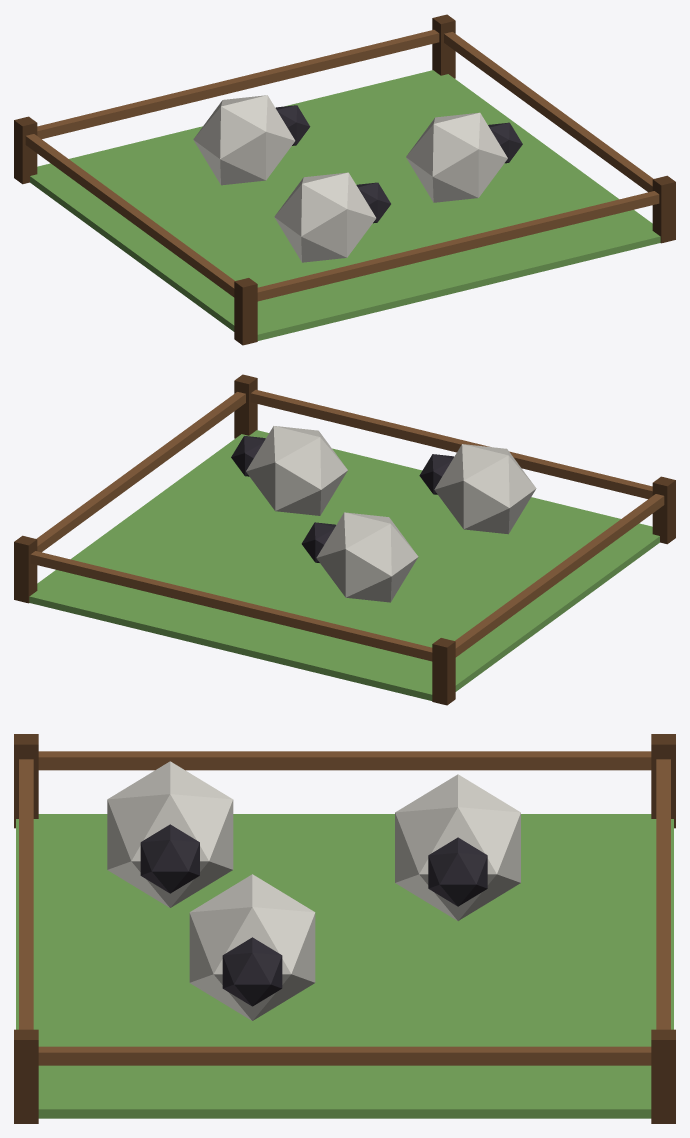
Rendered from sheep-meadow.glb.
3 renders of one model, top to bottom at view 1: azimuth 30°, elevation 25°; view 2: azimuth 150°, elevation 25°; view 3: azimuth 270°, elevation 25°, orthographic. The views are drawn at different scales.
Visible parts, largest first — view 1: sheep_meadow; view 2: sheep_meadow; view 3: sheep_meadow.
Boxes of the visible parts, x1,y1,x2,y2 form: sheep_meadow: (14, 14, 675, 345); sheep_meadow: (14, 374, 675, 705); sheep_meadow: (14, 734, 675, 1123).
Size of the model in its own units: 0.352 by 0.0734 by 0.322.
